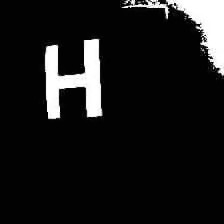LTR_H: (37, 31, 109, 123)
